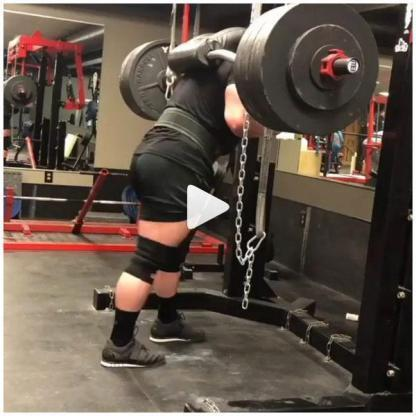barbell: (116, 4, 380, 137), (4, 72, 38, 112)
